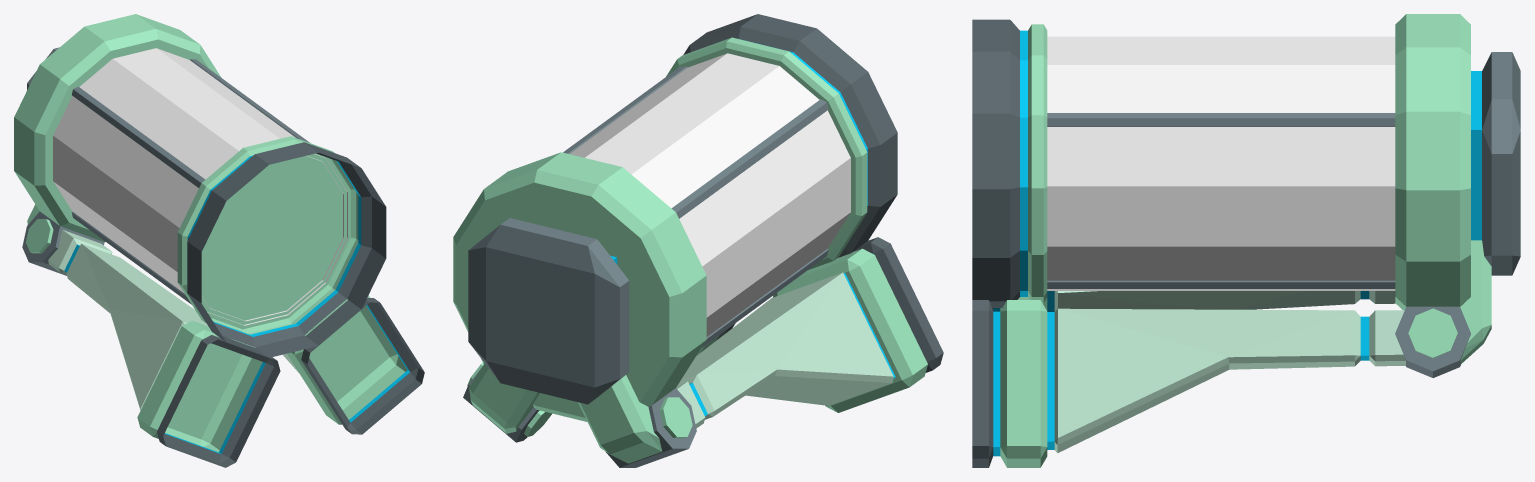
Rendered from Medical Pod 01.fbx.
3 views of the same model, side by side, from view 1: azimuth 30°, elevation 25°; view 2: azimuth 150°, elevation 25°; view 3: azimuth 270°, elevation 25° (orthographic). The views are drawn at different scales.
Visible parts, largest first — view 1: Medical_Pod_01, Medical_Glass; view 2: Medical_Pod_01, Medical_Glass; view 3: Medical_Pod_01, Medical_Glass.
Boxes of the visible parts, x1=… form: Medical_Pod_01: x1=14, y1=14, x2=424, y2=467; Medical_Glass: x1=79, y1=48, x2=324, y2=179; Medical_Pod_01: x1=453, y1=14, x2=943, y2=467; Medical_Glass: x1=569, y1=53, x2=819, y2=208; Medical_Pod_01: x1=972, y1=14, x2=1520, y2=467; Medical_Glass: x1=1047, y1=36, x2=1395, y2=112.
Size of the model in its own units: 219 by 237 by 300.
